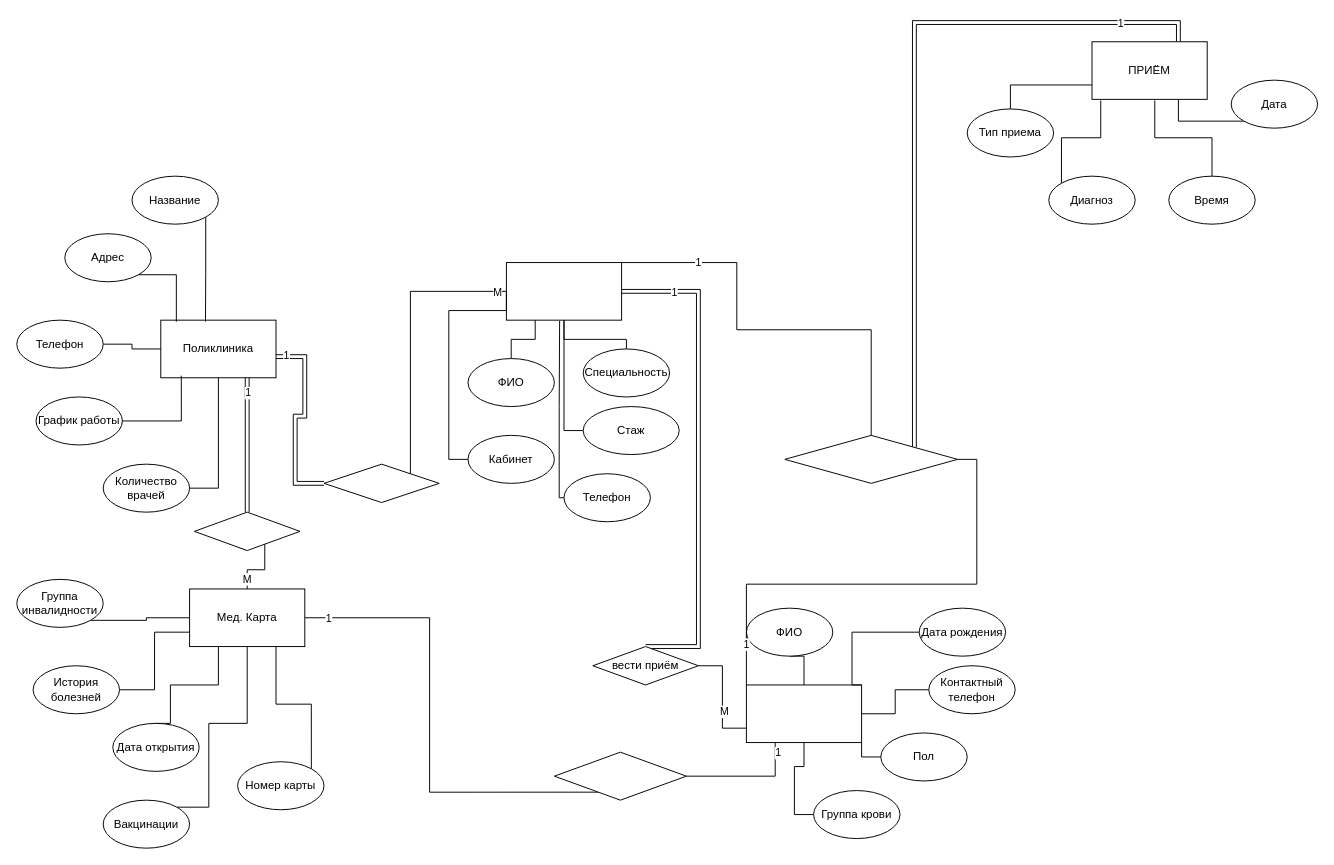
Some shapes in this 1334 by 865 pixel diagram are drawn without their labels. The centre of each missing label's shape, as x and y in pixels:
"БОЛЬНОЙ" belongs at (803,713).
"Врач" belongs at (563,291).
"имеет" belongs at (619,775).
"лежит" belongs at (246,531).
"работает" belongs at (381,483).
"связан" belongs at (871,458).
